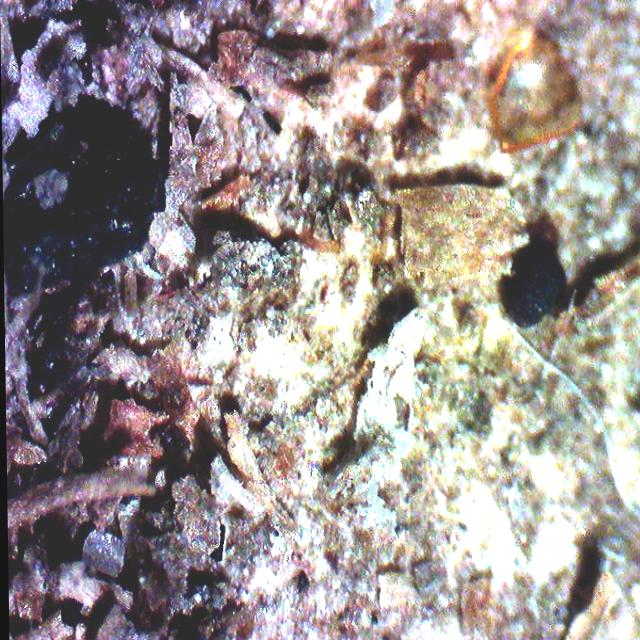microplastic: (471, 12, 592, 152)
